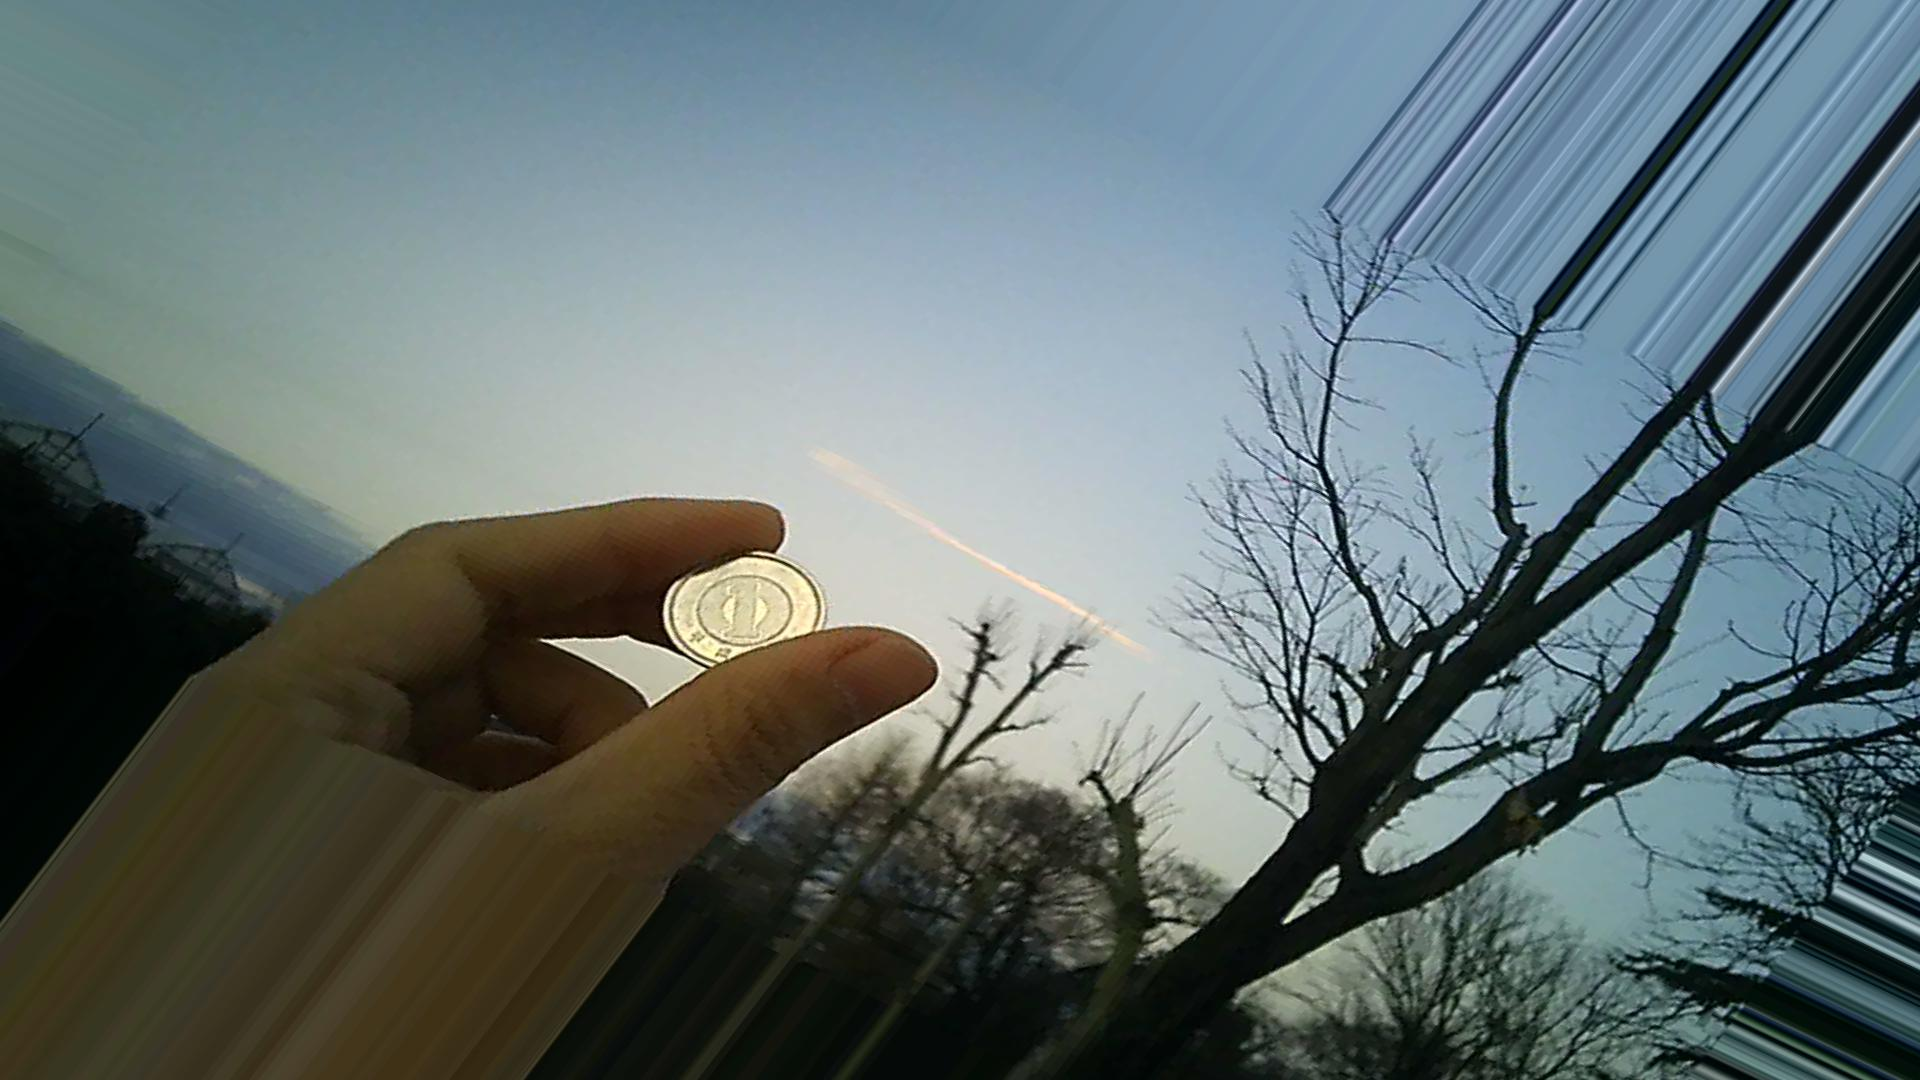1 Yen: (647, 533, 818, 692)
